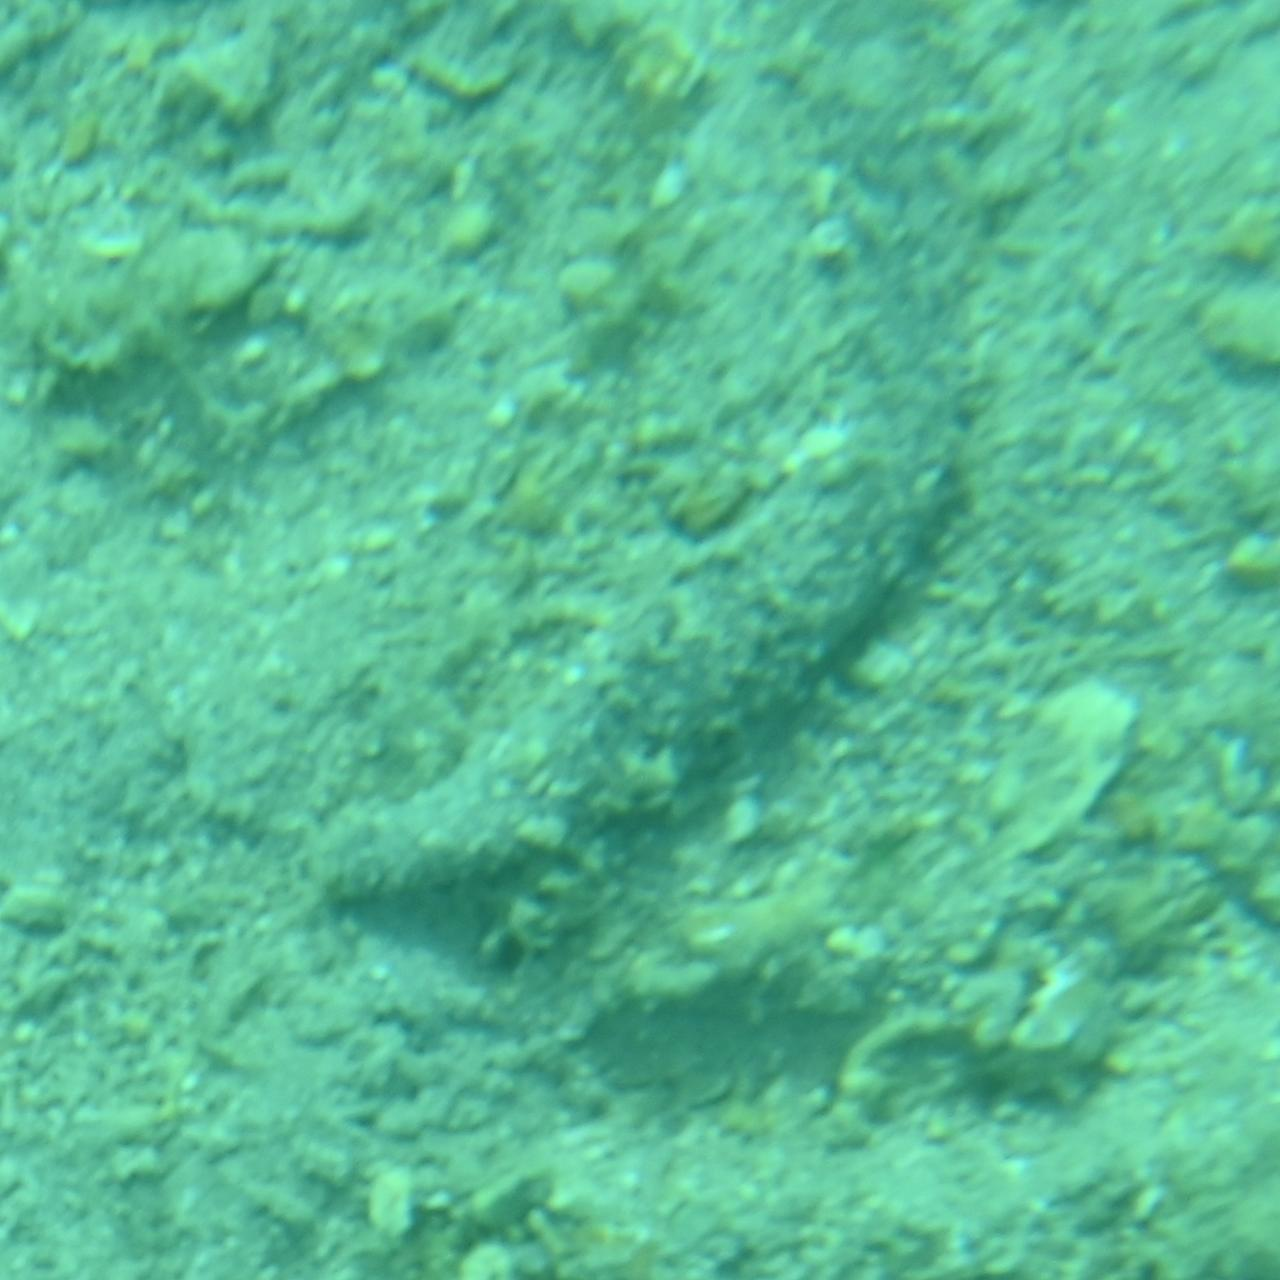Holothuria tubulosa: (262, 87, 1018, 948)
